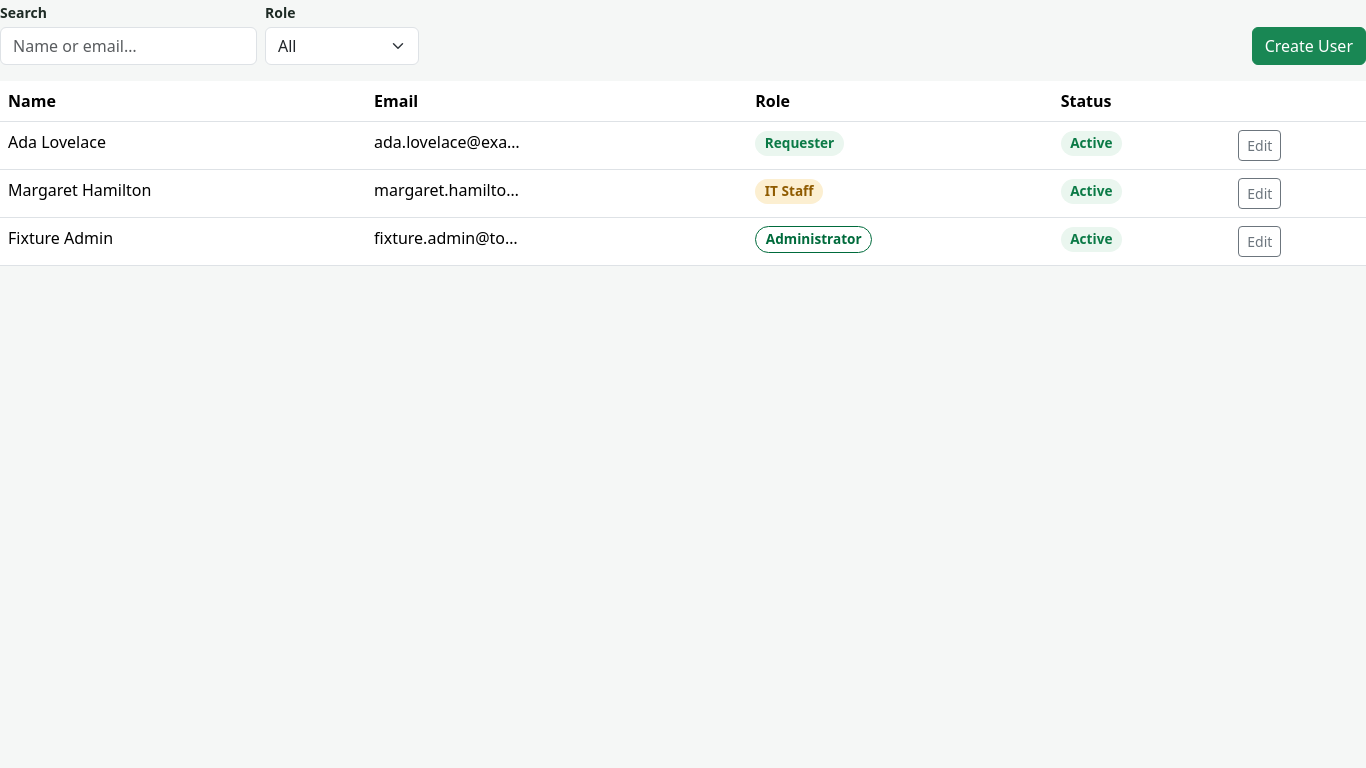
Test: UserManagement › does not disable Deactivate when editing a different user
Click the button "Edit" in the row of "Ada Lovelace" at (1260, 146), box [1238,130,1281,161]
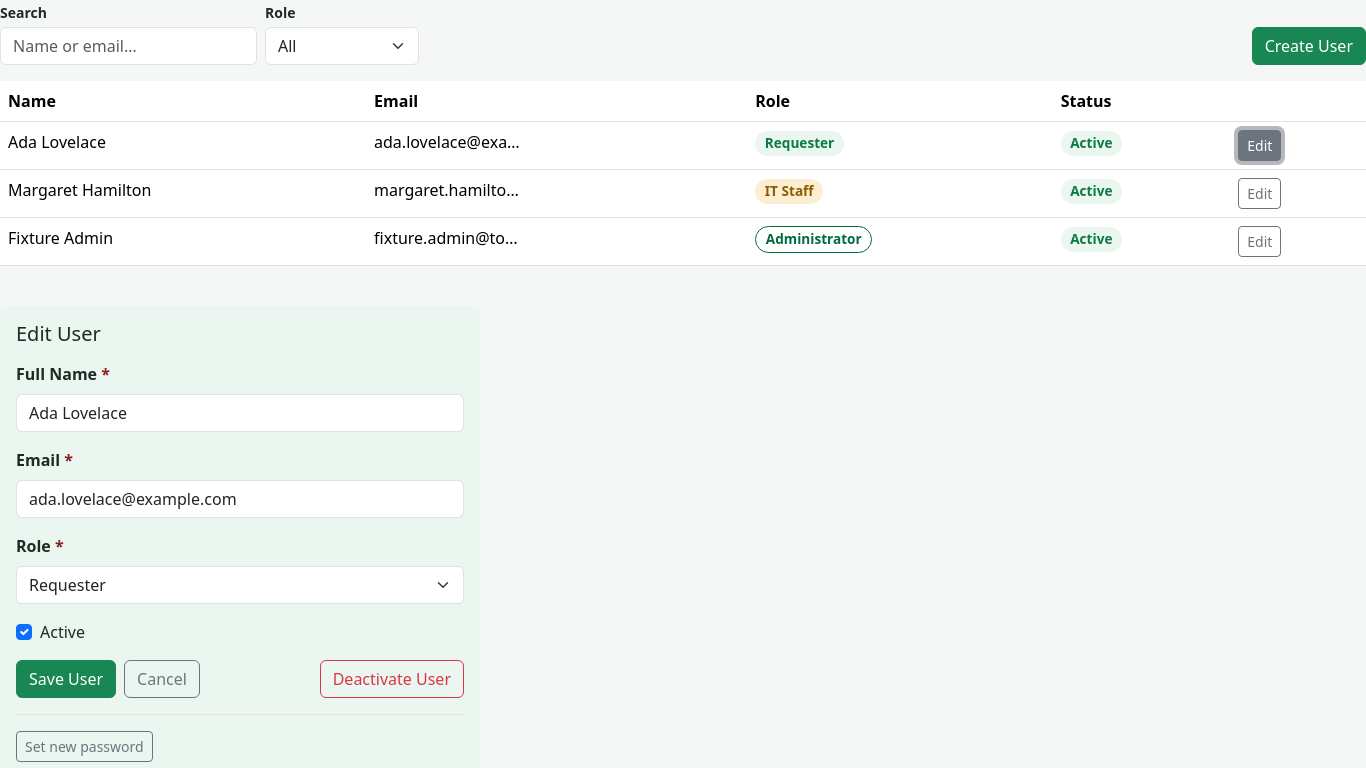
Now the button "Deactivate User" is enabled, box [320,660,464,698]
